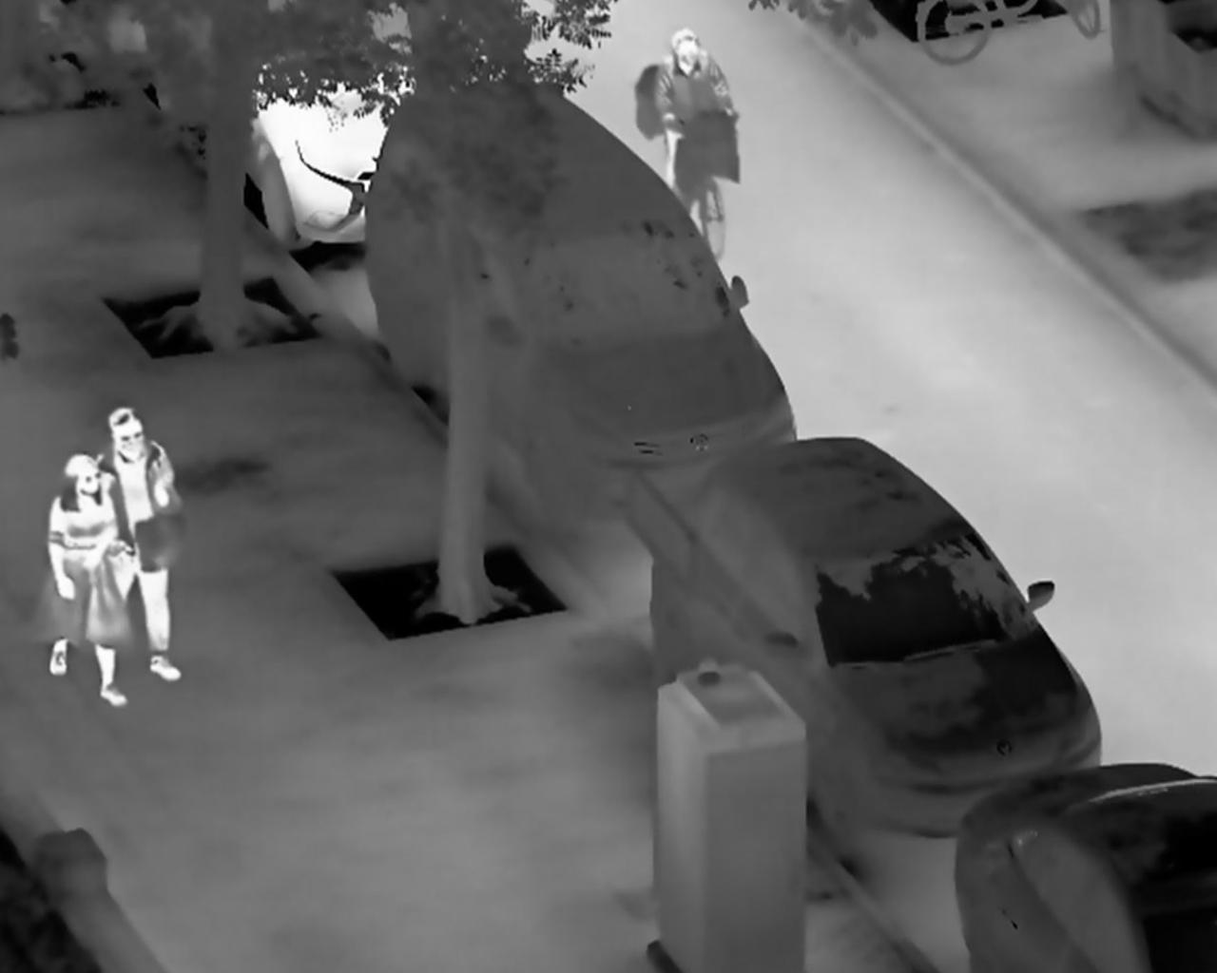person: (92, 406, 194, 688), (39, 447, 138, 709), (635, 25, 741, 214)
